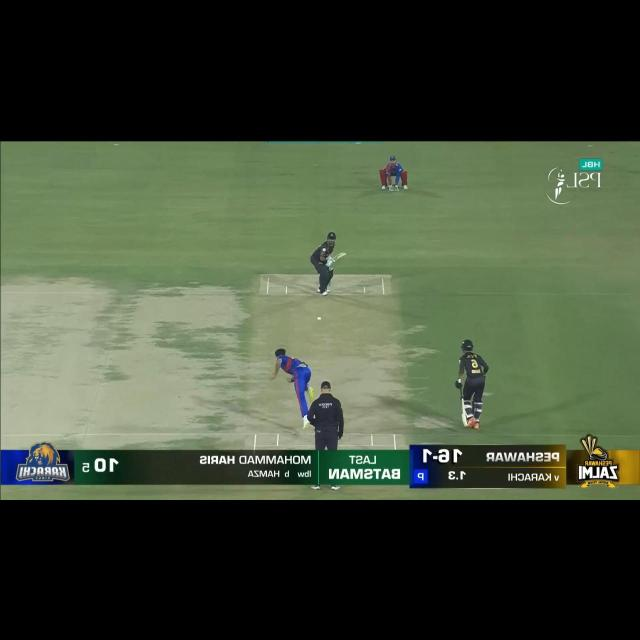bat: (459, 400, 469, 429), (331, 252, 346, 261)
toe: (462, 422, 469, 428), (341, 252, 346, 257)
